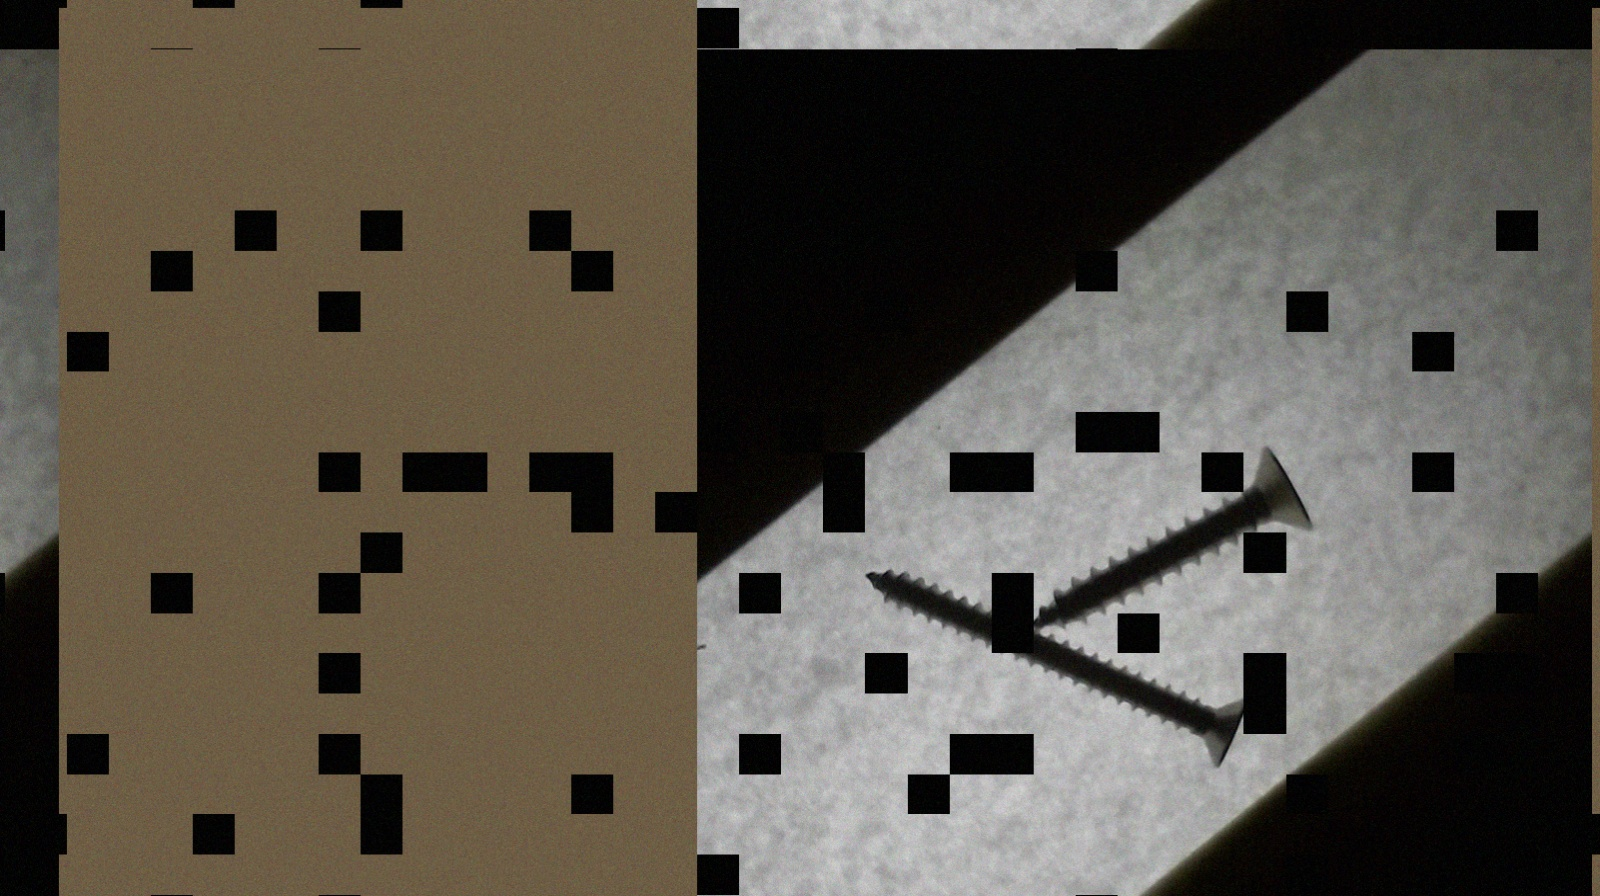S001: (1026, 439, 1316, 633)
S002: (864, 561, 1254, 766)
